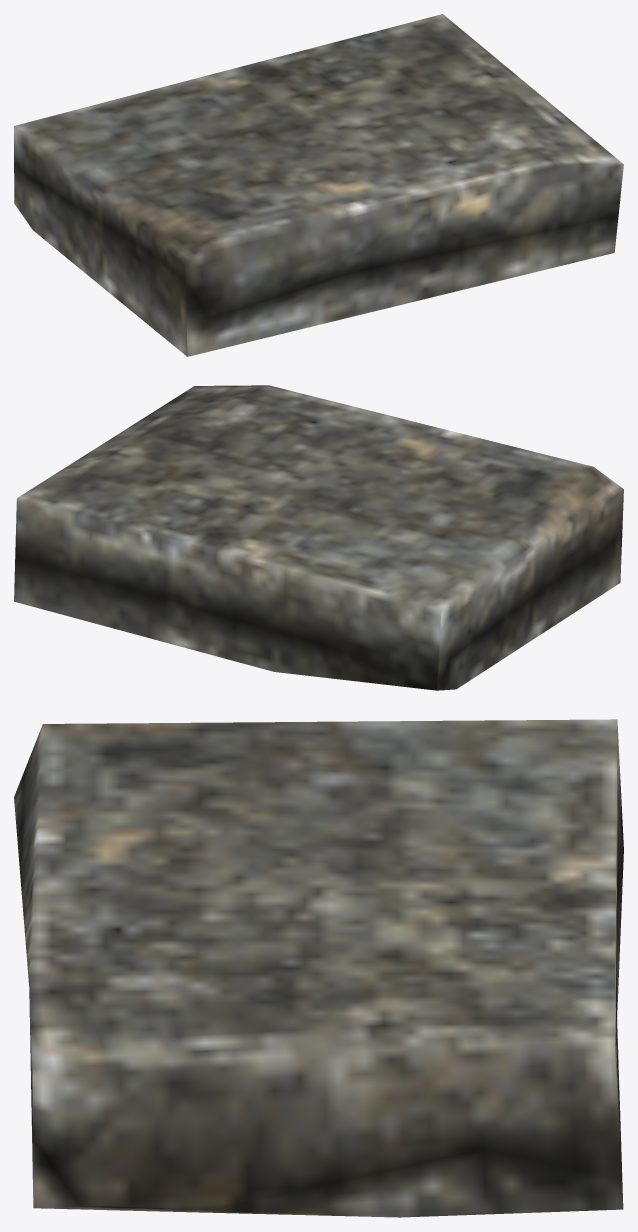
Rendered from Brick2B.fbx.
3 views of the same model, one above another, from view 1: azimuth 30°, elevation 25°; view 2: azimuth 150°, elevation 25°; view 3: azimuth 270°, elevation 25° (orthographic). The views are drawn at different scales.
Visible parts, largest first — view 1: polySurface18; view 2: polySurface18; view 3: polySurface18.
Boxes of the visible parts, x1,y1,x2,y2 form: polySurface18: (14, 14, 623, 356); polySurface18: (14, 385, 623, 690); polySurface18: (14, 719, 623, 1217).
Size of the model in its own units: 1.66 by 0.4035 by 1.23.
